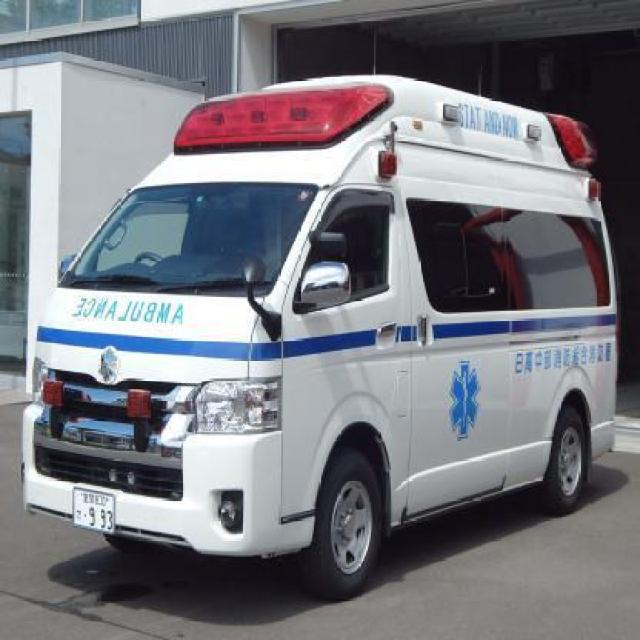Ambulance: (32, 42, 612, 574)
